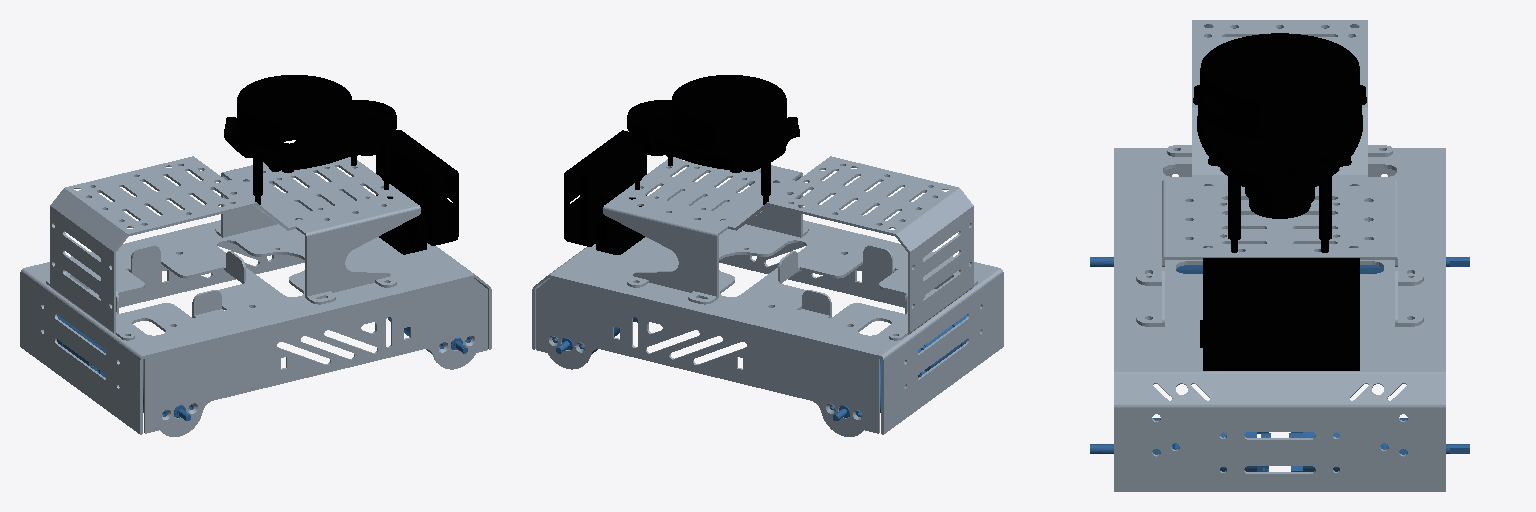
URDF robot description (leap_ros_max):
<?xml version='1.0' encoding='utf-8'?>
<robot name="leap_ros_max">
  <material name="silver">
    <color rgba="0.65 0.68 0.70 1.0" />
  </material>
  <material name="dark_gray">
    <color rgba="0.08 0.08 0.08 1.0" />
  </material>
  <material name="matte_black">
    <color rgba="0.01 0.01 0.01 1.0" />
  </material>
  <link name="base_footprint" />
  <joint name="base_joint" type="fixed">
    <parent link="base_footprint" />
    <child link="base_link" />
    <origin xyz="0 0 0.1345902" rpy="0 0 0" />
  </joint>
  <link name="base_link">
    <visual>
      <origin xyz="-0.00000 -0.00000 -0.00000" rpy="0 0 0" />
      <geometry>
        <mesh filename="package://chuyun_description/meshes/leap_ros_max/urdf/base.stl" scale="0.001 0.001 0.001" />
      </geometry>
      <material name="arm_gray">
        <color rgba="0.65 0.7 0.75 1" />
      </material>
    </visual>
    <collision>
      <origin xyz="-0.00000 -0.00000 -0.00000" rpy="0 0 0" />
      <geometry>
        <mesh filename="package://chuyun_description/meshes/leap_ros_max/urdf/base.stl" scale="0.001 0.001 0.001" />
      </geometry>
    </collision>
    <visual>
      <origin xyz="-0.00000 -0.00000 -0.00000" rpy="0 0 0" />
      <geometry>
        <mesh filename="package://chuyun_description/meshes/leap_ros_max/urdf/cover.stl" scale="0.001 0.001 0.001" />
      </geometry>
      <material name="arm_gray">
        <color rgba="0.65 0.7 0.75 1" />
      </material>
    </visual>
    <collision>
      <origin xyz="-0.00000 -0.00000 -0.00000" rpy="0 0 0" />
      <geometry>
        <mesh filename="package://chuyun_description/meshes/leap_ros_max/urdf/cover.stl" scale="0.001 0.001 0.001" />
      </geometry>
    </collision>
    <visual>
      <origin xyz="0.000000 0.000000 0.000000" rpy="0 0 0" />
      <geometry>
        <mesh filename="package://chuyun_description/meshes/leap_ros_max/v2/wheel_motor_1.stl" scale="0.001 0.001 0.001" />
      </geometry>
      <material name="component">
        <color rgba="0.25 0.45 0.65 1" />
      </material>
    </visual>
    <collision>
      <origin xyz="0.000000 0.000000 0.000000" rpy="0 0 0" />
      <geometry>
        <mesh filename="package://chuyun_description/meshes/leap_ros_max/v2/wheel_motor_1.stl" scale="0.001 0.001 0.001" />
      </geometry>
    </collision>
    <visual>
      <origin xyz="0.000000 0.000000 0.000000" rpy="0 0 0" />
      <geometry>
        <mesh filename="package://chuyun_description/meshes/leap_ros_max/v2/wheel_motor_2.stl" scale="0.001 0.001 0.001" />
      </geometry>
      <material name="component">
        <color rgba="0.25 0.45 0.65 1" />
      </material>
    </visual>
    <collision>
      <origin xyz="0.000000 0.000000 0.000000" rpy="0 0 0" />
      <geometry>
        <mesh filename="package://chuyun_description/meshes/leap_ros_max/v2/wheel_motor_2.stl" scale="0.001 0.001 0.001" />
      </geometry>
    </collision>
    <visual>
      <origin xyz="0.000000 0.000000 0.000000" rpy="0 0 0" />
      <geometry>
        <mesh filename="package://chuyun_description/meshes/leap_ros_max/v2/wheel_motor_3.stl" scale="0.001 0.001 0.001" />
      </geometry>
      <material name="component">
        <color rgba="0.25 0.45 0.65 1" />
      </material>
    </visual>
    <collision>
      <origin xyz="0.000000 0.000000 0.000000" rpy="0 0 0" />
      <geometry>
        <mesh filename="package://chuyun_description/meshes/leap_ros_max/v2/wheel_motor_3.stl" scale="0.001 0.001 0.001" />
      </geometry>
    </collision>
    <visual>
      <origin xyz="0.000000 0.000000 0.000000" rpy="0 0 0" />
      <geometry>
        <mesh filename="package://chuyun_description/meshes/leap_ros_max/v2/wheel_motor_4.stl" scale="0.001 0.001 0.001" />
      </geometry>
      <material name="component">
        <color rgba="0.25 0.45 0.65 1" />
      </material>
    </visual>
    <collision>
      <origin xyz="0.000000 0.000000 0.000000" rpy="0 0 0" />
      <geometry>
        <mesh filename="package://chuyun_description/meshes/leap_ros_max/v2/wheel_motor_4.stl" scale="0.001 0.001 0.001" />
      </geometry>
    </collision>
    <visual>
      <origin xyz="0 0 0" rpy="0 0 0" />
      <geometry>
        <mesh filename="package://chuyun_description/meshes/leap_ros_max/mecanum_pair_1.stl" scale="0.001 0.001 0.001" />
      </geometry>
      <material name="mecanum_gray">
        <color rgba="0.30 0.32 0.34 1" />
      </material>
    </visual>
    <collision>
      <origin xyz="0 0 0" rpy="0 0 0" />
      <geometry>
        <mesh filename="package://chuyun_description/meshes/leap_ros_max/mecanum_pair_1.stl" scale="0.001 0.001 0.001" />
      </geometry>
    </collision>
    <visual>
      <origin xyz="0 0 0" rpy="0 0 0" />
      <geometry>
        <mesh filename="package://chuyun_description/meshes/leap_ros_max/mecanum_pair_2.stl" scale="0.001 0.001 0.001" />
      </geometry>
      <material name="mecanum_gray">
        <color rgba="0.30 0.32 0.34 1" />
      </material>
    </visual>
    <collision>
      <origin xyz="0 0 0" rpy="0 0 0" />
      <geometry>
        <mesh filename="package://chuyun_description/meshes/leap_ros_max/mecanum_pair_2.stl" scale="0.001 0.001 0.001" />
      </geometry>
    </collision>
  </link>
  <link name="laser_frame">
    <visual>
      <origin xyz="0.02495 -0.000062 -0.07295" rpy="0 0 1.57079632679" />
      <geometry>
        <mesh filename="package://chuyun_description/meshes/leap_ros/lidar.stl" scale="0.001 0.001 0.001" />
      </geometry>
      <material name="matte_black" />
    </visual>
    <collision>
      <origin xyz="0.02495 -0.000062 -0.07295" rpy="0 0 1.57079632679" />
      <geometry>
        <mesh filename="package://chuyun_description/meshes/leap_ros/lidar.stl" scale="0.001 0.001 0.001" />
      </geometry>
    </collision>
  </link>
  <joint name="laser_joint" type="fixed">
    <parent link="base_link" />
    <child link="laser_frame" />
    <origin xyz="0.0535 0 0.01245" rpy="0 0 0" />
  </joint>
  <link name="camera_link">
    <visual>
      <origin xyz="-0.045466 0.000603 -0.061658" rpy="0 0 1.57079632679" />
      <geometry>
        <mesh filename="package://chuyun_description/meshes/leap_ros/camera.stl" scale="0.001 0.001 0.001" />
      </geometry>
      <material name="matte_black" />
    </visual>
    <collision>
      <origin xyz="-0.045466 0.000603 -0.061658" rpy="0 0 1.57079632679" />
      <geometry>
        <mesh filename="package://chuyun_description/meshes/leap_ros/camera.stl" scale="0.001 0.001 0.001" />
      </geometry>
    </collision>
  </link>
  <joint name="camera_joint" type="fixed">
    <parent link="base_link" />
    <child link="camera_link" />
    <origin xyz="0.110 0 -0.033" rpy="0 0 0" />
  </joint>
  <link name="battery_link">
    <visual>
      <origin xyz="0.027 0 -0.0145" rpy="0 0 1.57079632679" />
      <geometry>
        <mesh filename="package://chuyun_description/meshes/leap_ros/battery.stl" scale="0.001 0.001 0.001" />
      </geometry>
      <material name="dark_gray" />
    </visual>
  </link>
  <joint name="battery_joint" type="fixed">
    <parent link="base_link" />
    <child link="battery_link" />
    <origin xyz="0.055 0 -0.080" rpy="0 0 0" />
  </joint>
  <link name="controller_link">
    <visual>
      <origin xyz="0.027 0.000108 -0.027255" rpy="0 0 1.57079632679" />
      <geometry>
        <mesh filename="package://chuyun_description/meshes/leap_ros_max/controller_no_standoffs.stl" scale="0.001 0.001 0.001" />
      </geometry>
      <material name="silver" />
    </visual>
  </link>
  <joint name="controller_joint" type="fixed">
    <parent link="base_link" />
    <child link="controller_link" />
    <origin xyz="-0.046 0 0.000255" rpy="0 0 0" />
  </joint>

  <!-- Preserve the installed board sensor poses relative to base_footprint. -->
  <link name="imu_link"/>
  <joint name="imu_link_mount" type="fixed">
    <parent link="base_link"/>
    <child link="imu_link"/>
    <origin xyz="0 0 -0.0425402" rpy="0 0 0"/>
  </joint>
</robot>

--- What the picture shows (computed from the rendered views, not written in the file) ---
Views: 3 orthographic renders of the robot side by side, from view 1: azimuth 30°, elevation 25°; view 2: azimuth 150°, elevation 25°; view 3: azimuth 270°, elevation 25°.
Model leap_ros_max with 7 links and 6 joints (6 fixed), rooted at base_footprint, posed all joints at 0.
Links seen in each view (by area): view 1: base_link, laser_frame, camera_link; view 2: base_link, laser_frame, camera_link; view 3: base_link, laser_frame, camera_link.
Boxes of the visible links, left/top/right/bottom form: base_link: left=20, top=156, right=491, bottom=436; laser_frame: left=224, top=75, right=396, bottom=204; camera_link: left=376, top=130, right=458, bottom=254; base_link: left=532, top=156, right=1003, bottom=436; laser_frame: left=627, top=75, right=799, bottom=204; camera_link: left=564, top=130, right=646, bottom=254; base_link: left=1090, top=20, right=1469, bottom=491; laser_frame: left=1193, top=33, right=1366, bottom=252; camera_link: left=1200, top=258, right=1359, bottom=370.
Size in the robot's own frame: 0.223 by 0.151 by 0.1527 metres.
8 mesh visuals loaded from 12 distinct referenced files (8 binary STL); not drawn: 4 (reference not matched to a file when rendering).
